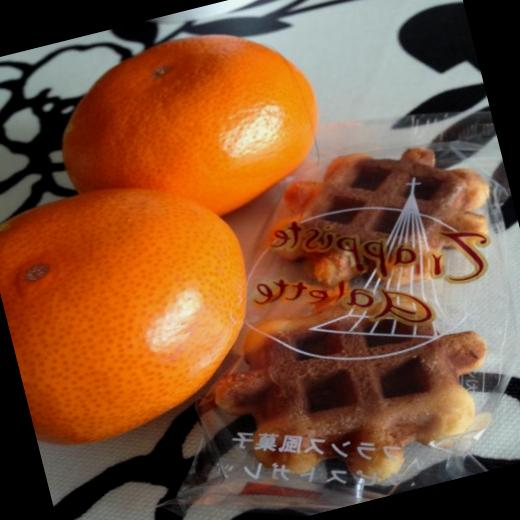Grape: (0, 159, 279, 458), (43, 10, 338, 250)
